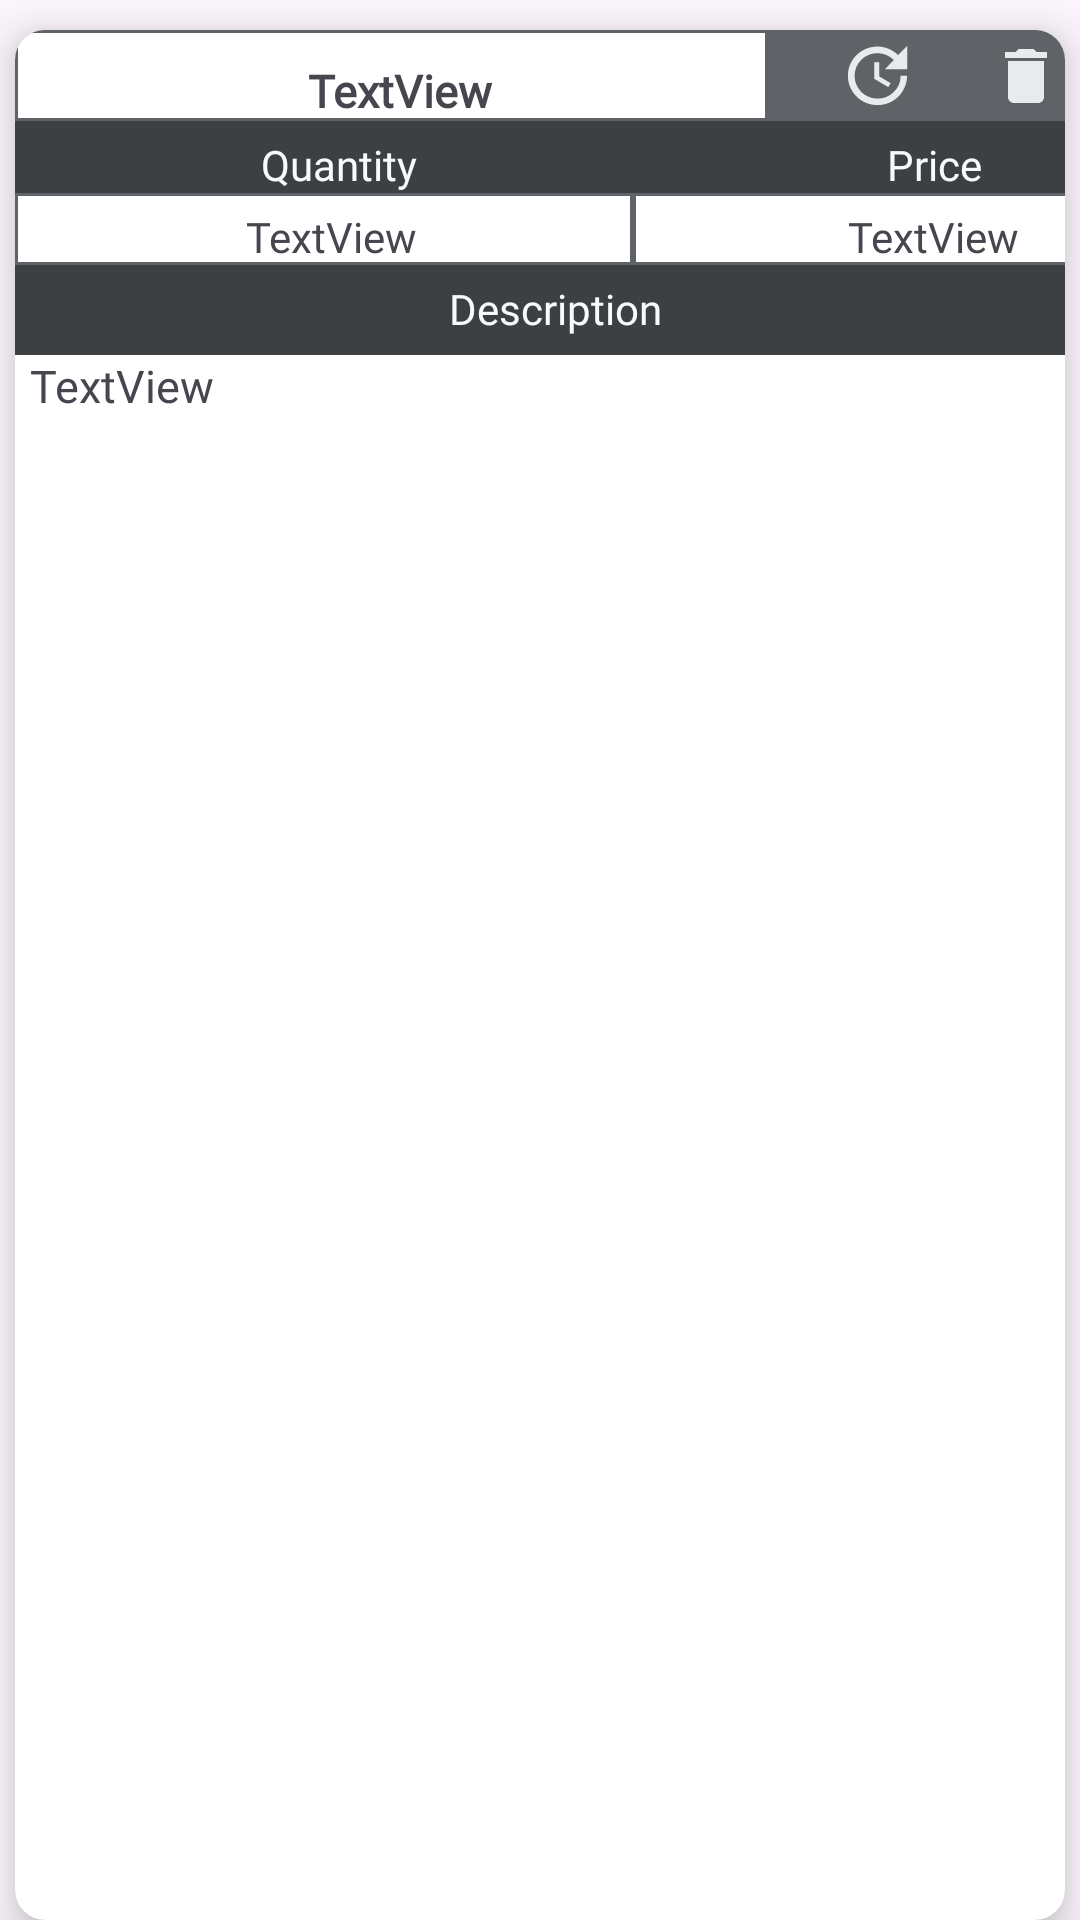

Named icons in this screenshot (1080*1920) and their centers, point (x, y):
delete: point (1026, 75)
update: point (877, 75)
